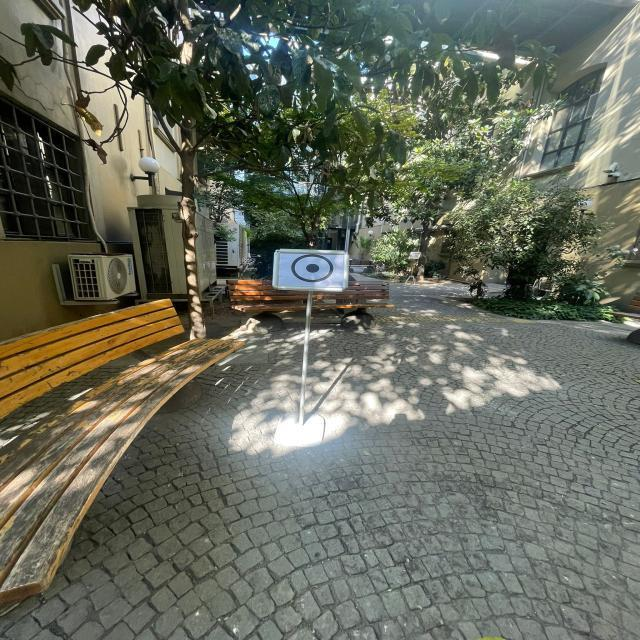Target: (262, 233, 362, 303)
inner: (300, 259, 323, 277)
